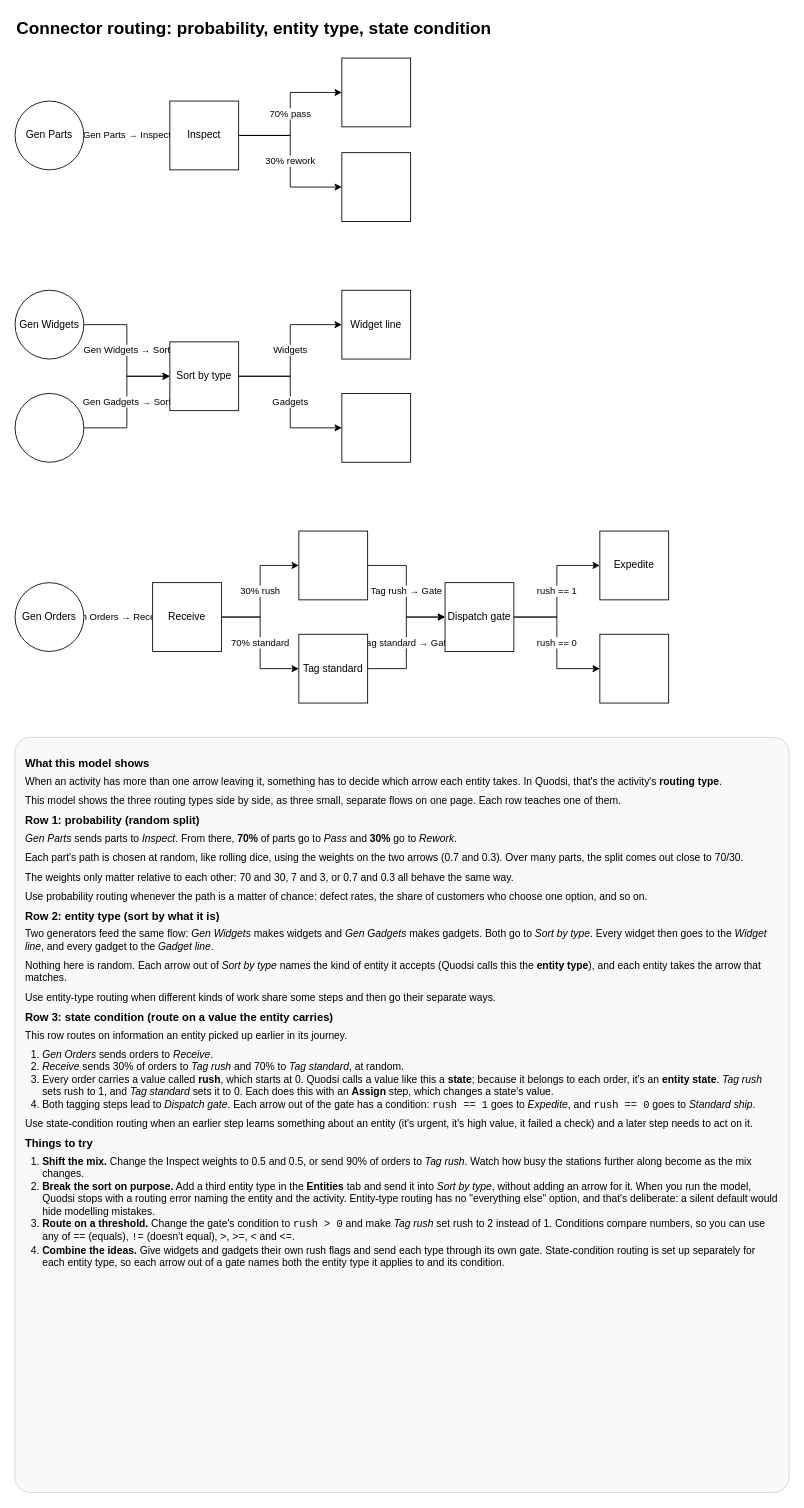
Some shapes in this 804 by 1508 pixel diagram are drawn without their labels. The shapes that lost their labels are listed below. From the top down, each one's box as (x1, y1, x2, y2) in pixels, then its label:
(341, 57, 411, 127): Pass
(341, 152, 411, 221): Rework
(14, 393, 84, 462): Gen Gadgets
(341, 393, 411, 462): Gadget line
(298, 530, 368, 600): Tag rush
(599, 633, 669, 703): Standard ship
